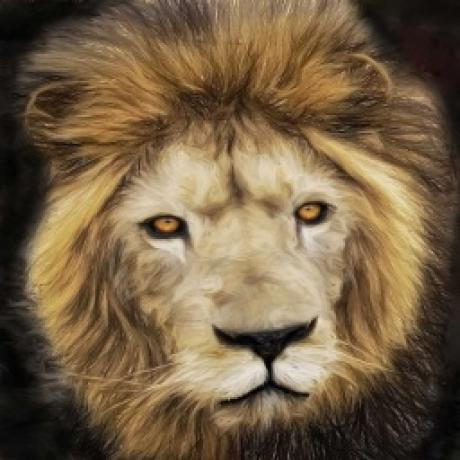Lion: (15, 0, 460, 460)
